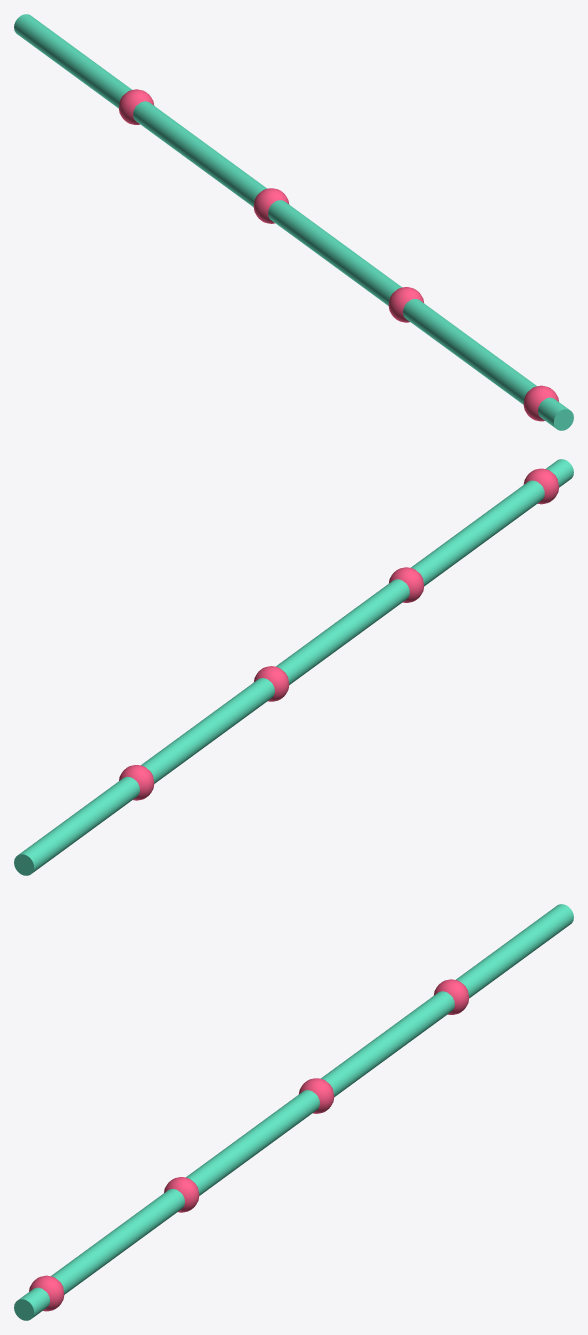
The model's file is rail_right.glb.
3 views of the same model, one above another, from view 1: azimuth 30°, elevation 25°; view 2: azimuth 150°, elevation 25°; view 3: azimuth 330°, elevation 25° (orthographic).
Parts seen in each view (by area): view 1: RailTube, Joint.003, Joint, Joint.001, Joint.002; view 2: RailTube, Joint.001, Joint, Joint.003, Joint.002; view 3: RailTube, Joint.003, Joint, Joint.001, Joint.002.
Part boxes in pixels (box(x1,y1,x2,y2)): RailTube: box(14, 14, 573, 430); Joint.003: box(118, 89, 154, 124); Joint: box(523, 385, 558, 421); Joint.001: box(388, 287, 423, 322); Joint.002: box(253, 188, 289, 223); RailTube: box(14, 459, 573, 875); Joint.001: box(388, 567, 424, 602); Joint: box(523, 468, 559, 504); Joint.003: box(119, 765, 154, 800); Joint.002: box(253, 666, 289, 701); RailTube: box(14, 904, 573, 1320); Joint.003: box(433, 979, 469, 1014); Joint: box(29, 1275, 64, 1311); Joint.001: box(164, 1177, 199, 1212); Joint.002: box(298, 1078, 334, 1113).
Size of the model in its own units: 0.4 by 0.4 by 12.
